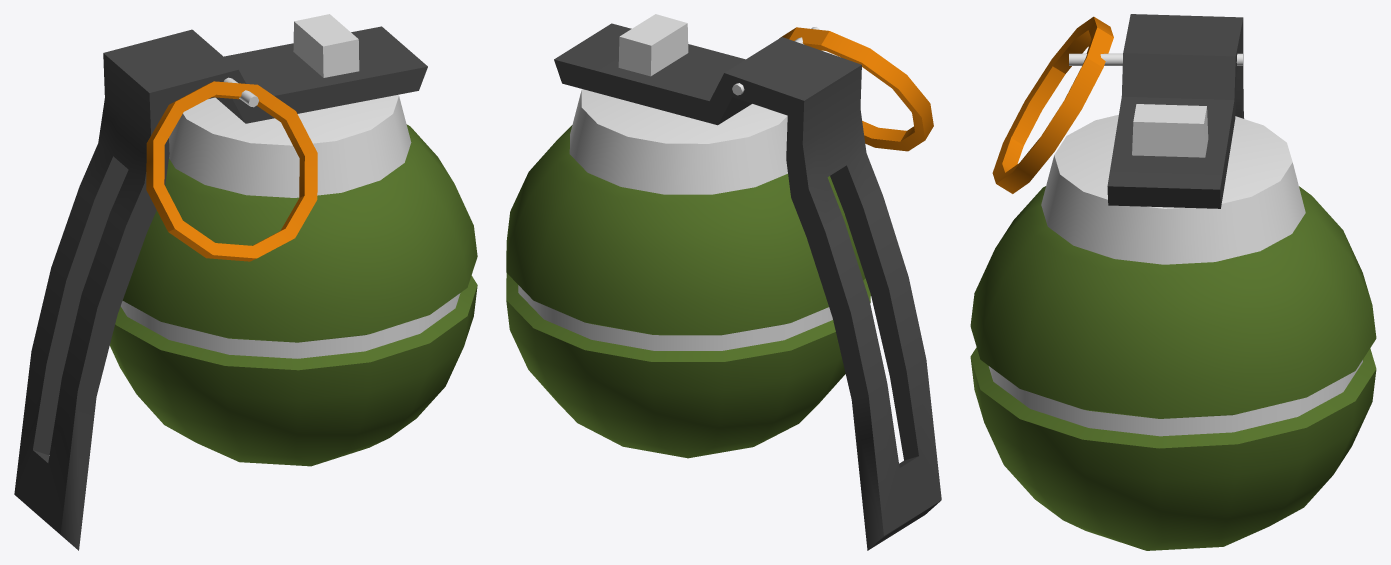
Rendered from grenade1-food.fbx.
The picture shows the model from 3 angles, left to right: view 1: azimuth 30°, elevation 25°; view 2: azimuth 150°, elevation 25°; view 3: azimuth 270°, elevation 25°; orthographic projection. The views are drawn at different scales.
Visible parts, largest first — view 1: grenade1-food; view 2: grenade1-food; view 3: grenade1-food.
Part boxes in pixels (bbox=[...]): grenade1-food: bbox=[14, 14, 477, 550]; grenade1-food: bbox=[506, 14, 941, 550]; grenade1-food: bbox=[970, 14, 1376, 550].
Bounding box in the file's own units: 0.1317 × 0.1402 × 0.1063.
